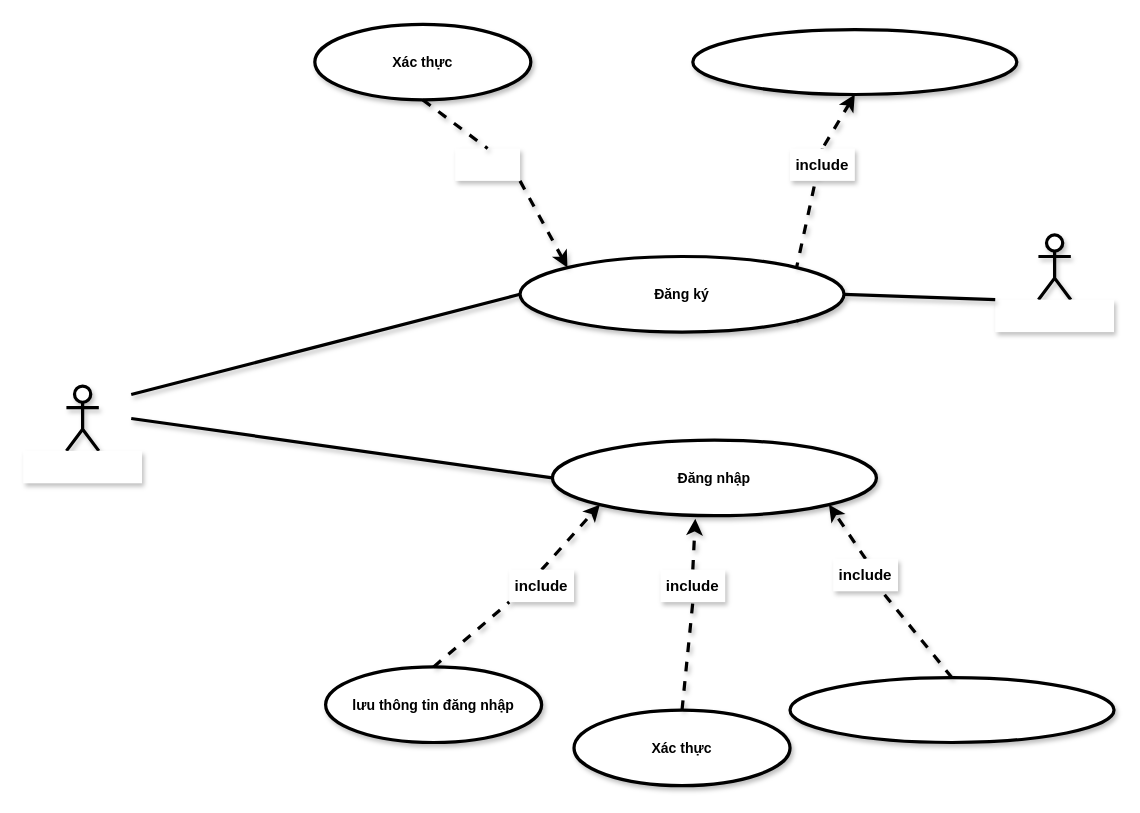
This 1140x813 diagram has some shape labels left out. The centre of each missing label's shape, as x and y in pixels:
admin: the point at 1055,317
extend: the point at 488,166
khách hàng: the point at 83,468
Quản lý phiên: the point at 953,711
tùy chỉnh đăng nhập: the point at 855,63
